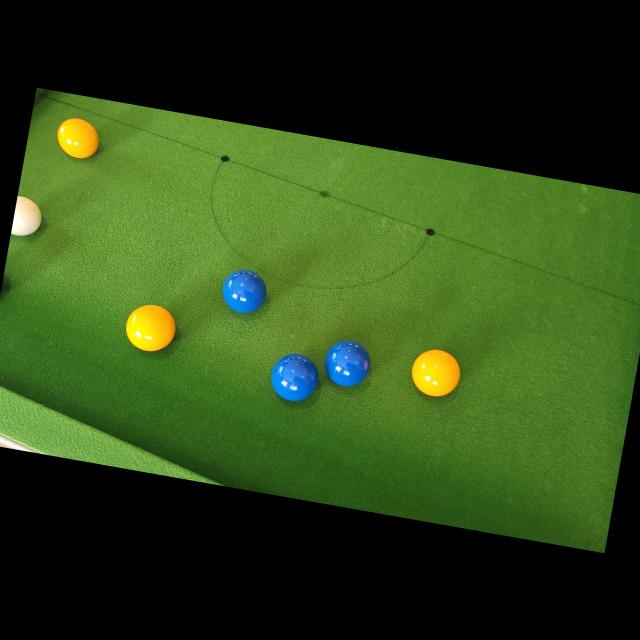Ball: (407, 344, 464, 402), (122, 300, 178, 354), (268, 350, 321, 406), (321, 336, 374, 391), (219, 266, 271, 316), (54, 115, 102, 162), (10, 194, 45, 238)
